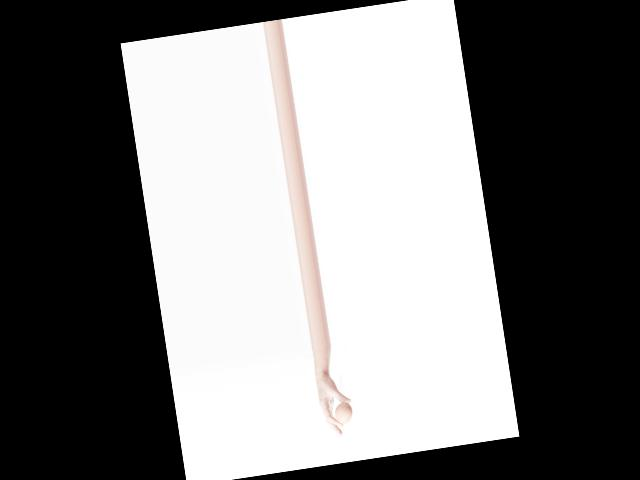egg: (334, 400, 354, 424)
